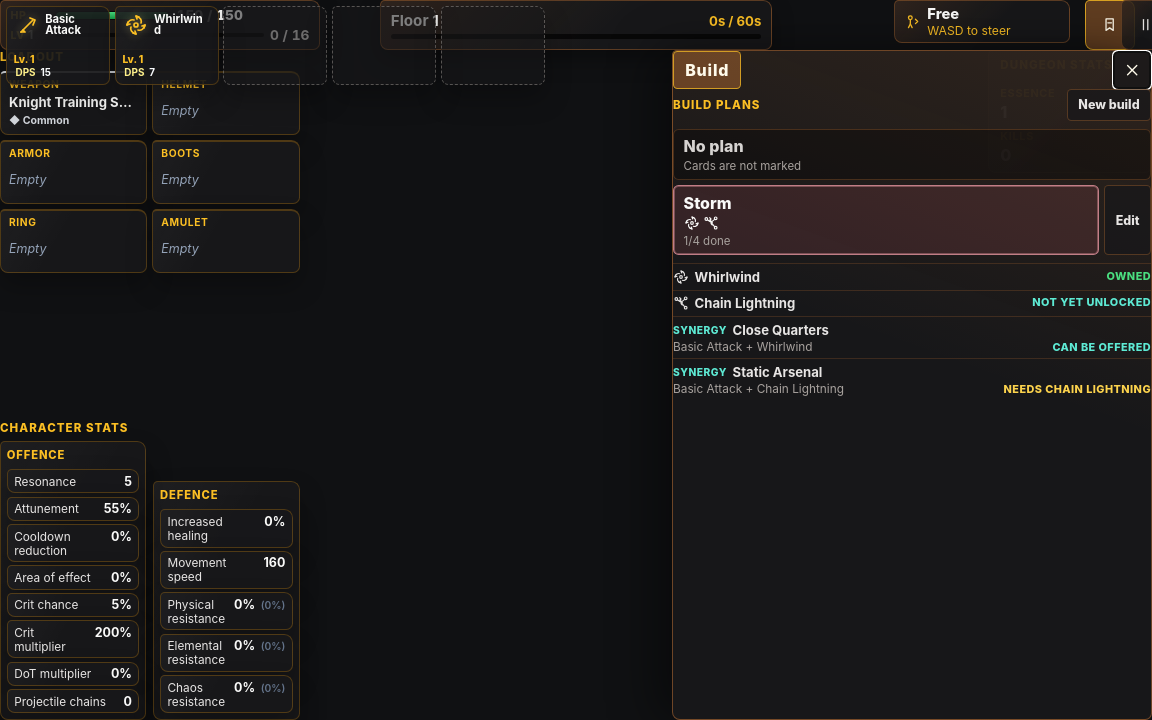
the build planner › measures the followed plan against the run and names the missing skill
The width and height of the screenshot is (1152, 720).
Expected: the text "Needs Chain Lightning" is shown, [1004,382,1151,396]
Expected: the text "Not yet unlocked" is shown, [1032,295,1151,311]
Click the button with aria-label "edit storm": (1128, 220) [1104,186,1151,255]
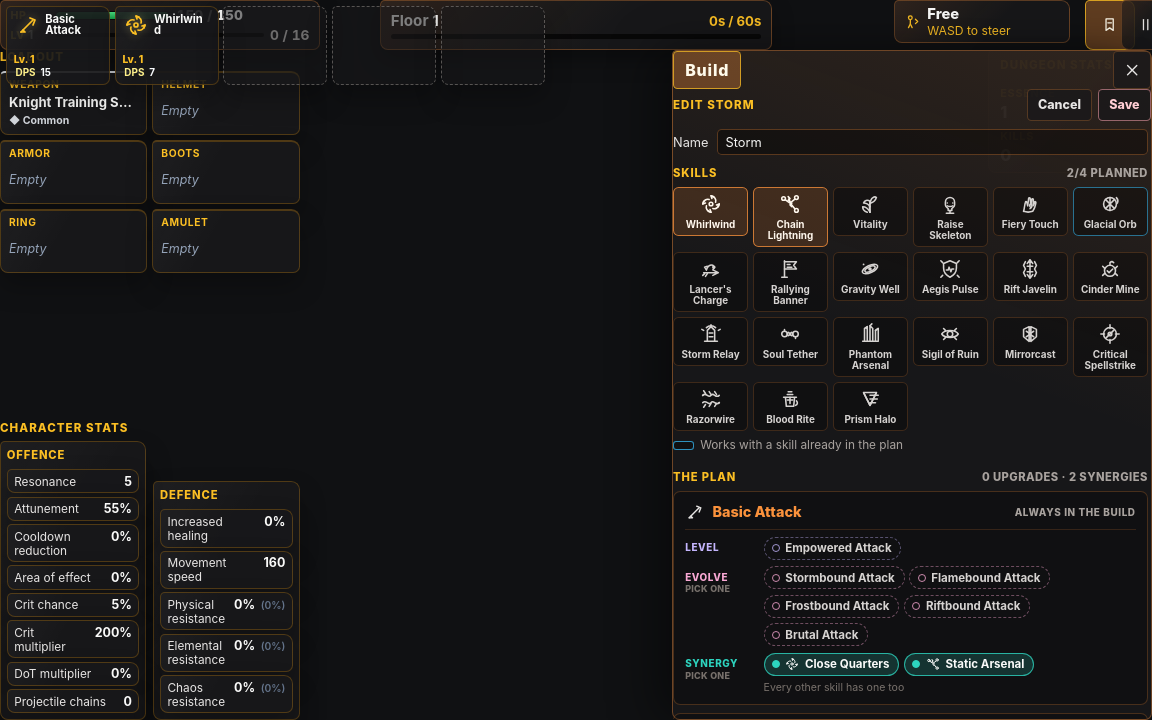
Now the heading "Edit Storm" is shown, box [673,98,755,112]
